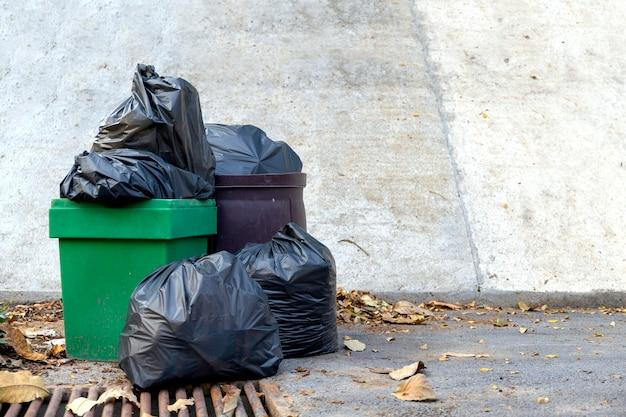garbage bin: (49, 198, 216, 360), (214, 174, 307, 252)
trash: (119, 251, 282, 388), (92, 64, 215, 185), (236, 223, 337, 358), (60, 149, 214, 206), (206, 123, 302, 174)
